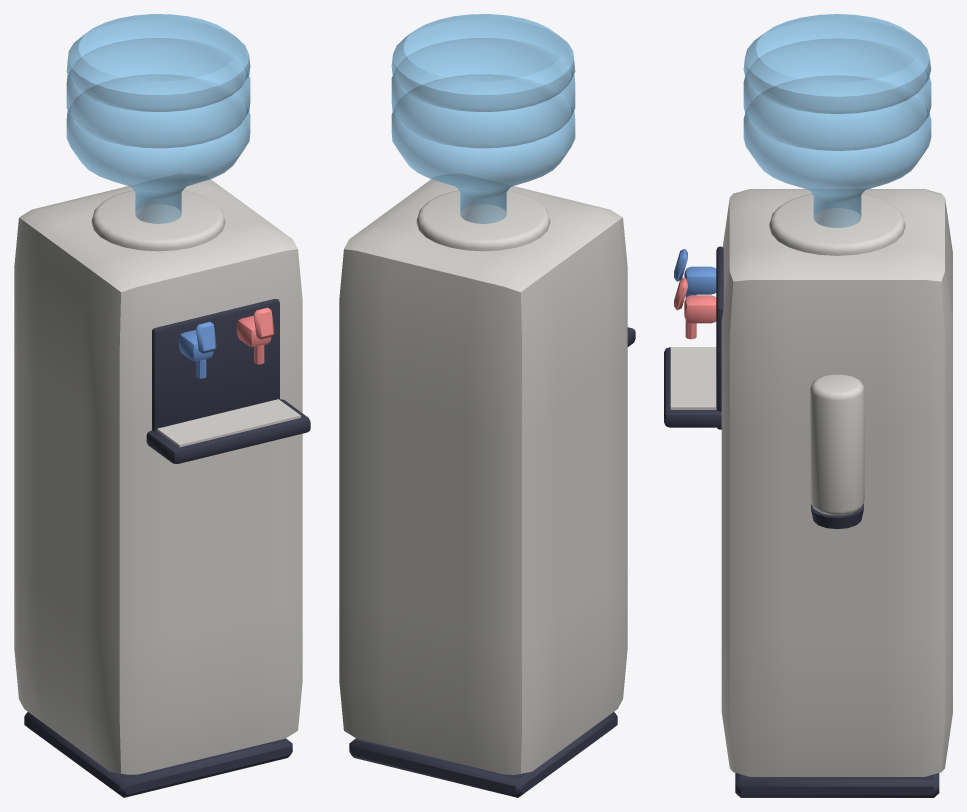
Rendered from water_cooler.glb.
3 renders of one model, left to right at view 1: azimuth 30°, elevation 25°; view 2: azimuth 150°, elevation 25°; view 3: azimuth 270°, elevation 25°, orthographic.
Parts seen in each view (by area): view 1: cooler, glass_water, charcoal, blue, coral; view 2: cooler, glass_water, charcoal; view 3: cooler, glass_water, charcoal, coral, blue.
Part boxes in pixels (<box>): cooler: <box>14,174,302,774</box>; glass_water: <box>66,14,250,223</box>; charcoal: <box>24,299,310,797</box>; blue: <box>179,321,216,378</box>; coral: <box>237,307,274,364</box>; cooler: <box>339,174,627,774</box>; glass_water: <box>391,14,575,223</box>; charcoal: <box>349,327,635,797</box>; cooler: <box>670,189,952,776</box>; glass_water: <box>743,14,931,227</box>; charcoal: <box>664,246,939,797</box>; coral: <box>674,277,716,339</box>; blue: <box>674,249,716,298</box>.
Size of the model in its own units: 0.41 by 1.15 by 0.425.
